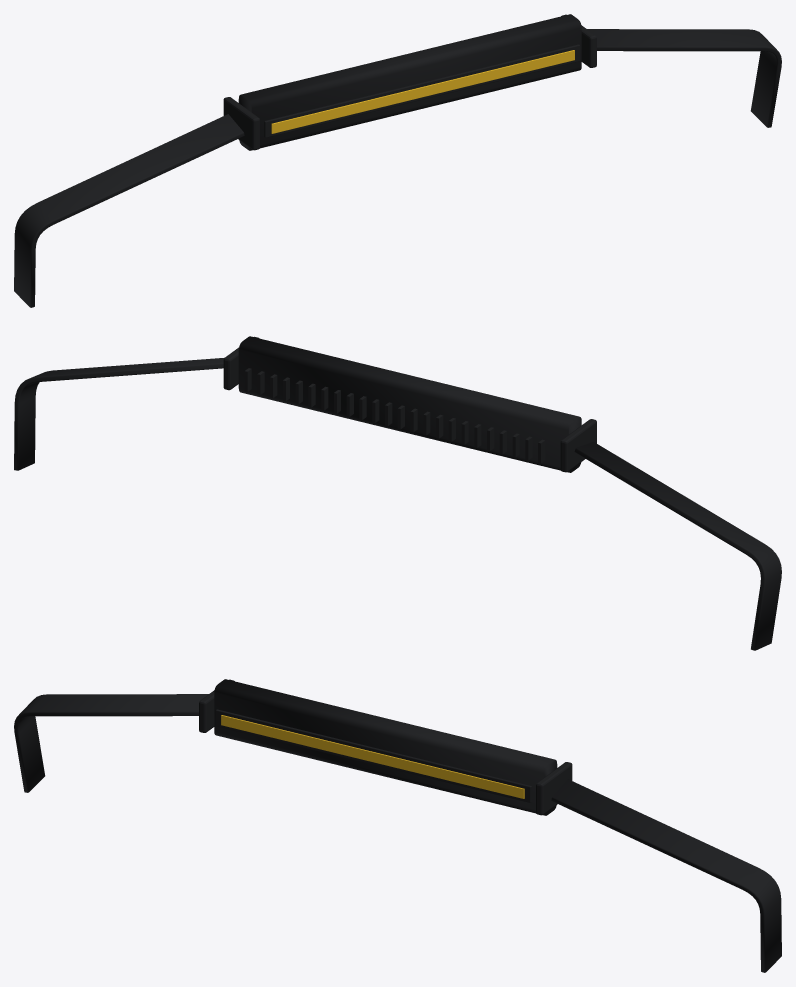
File: lightBar_stedi_st1k.glb
3 renders of one model, top to bottom at view 1: azimuth 30°, elevation 25°; view 2: azimuth 150°, elevation 25°; view 3: azimuth 330°, elevation 25°, orthographic.
Visible parts, largest first — view 1: housing.006, bracket-1.002, bracket1.002, lens.006, bezel.006, endCap-1.007, endCap1.007; view 2: housing.006, bracket-1.002, bracket1.002, endCap-1.007, endCap1.007; view 3: housing.006, bracket1.002, bracket-1.002, lens.006, bezel.006, endCap1.007, endCap-1.007.
Part boxes in pixels (<box>): housing.006: <box>238,14,581,150</box>; bracket-1.002: <box>14,114,244,307</box>; bracket1.002: <box>587,29,781,127</box>; lens.006: <box>271,50,574,133</box>; bezel.006: <box>264,44,580,137</box>; endCap-1.007: <box>223,97,259,150</box>; endCap1.007: <box>561,14,596,67</box>; housing.006: <box>238,336,581,472</box>; bracket-1.002: <box>574,442,781,650</box>; bracket1.002: <box>14,357,224,470</box>; endCap-1.007: <box>560,419,596,472</box>; endCap1.007: <box>223,336,259,390</box>; housing.006: <box>214,679,557,815</box>; bracket1.002: <box>551,779,781,972</box>; bracket-1.002: <box>14,694,208,792</box>; lens.006: <box>221,715,524,798</box>; bezel.006: <box>215,709,531,802</box>; endCap1.007: <box>536,762,572,815</box>; endCap-1.007: <box>199,679,234,732</box>.
Bounding box in the file's own units: 1.24 × 0.264 × 0.1187.
